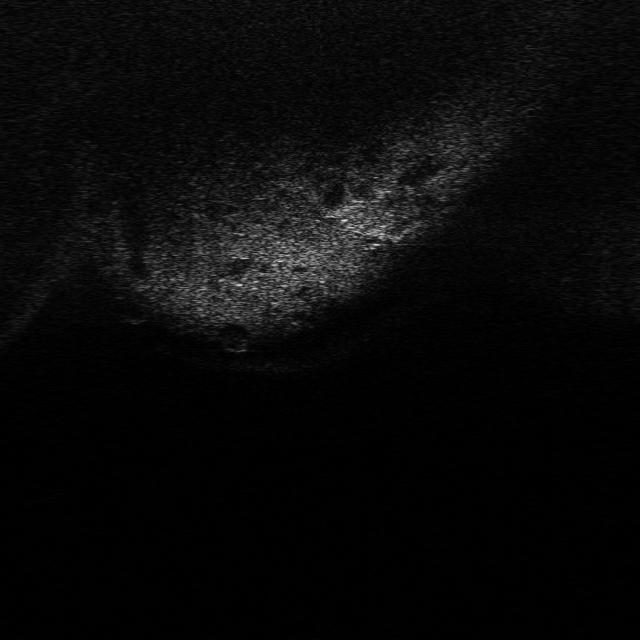ball: (114, 295, 154, 328)
